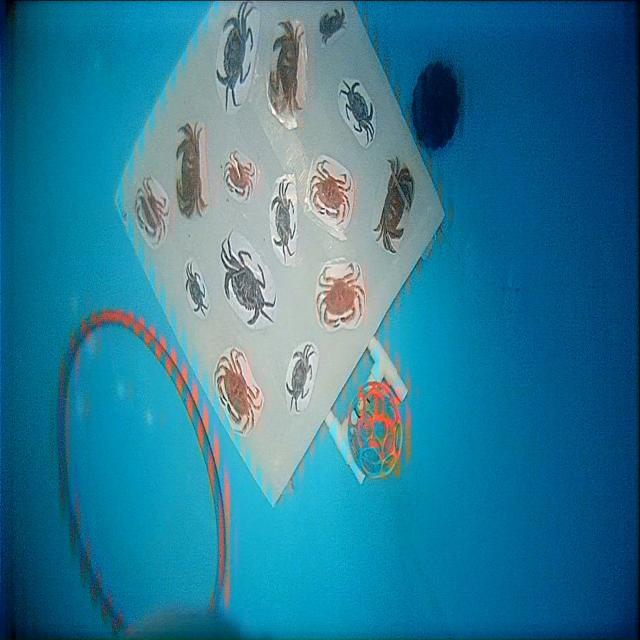GreenCrab: (220, 233, 276, 325), (216, 0, 253, 110), (339, 81, 374, 144), (285, 343, 315, 410), (272, 183, 295, 262), (185, 261, 208, 316)
